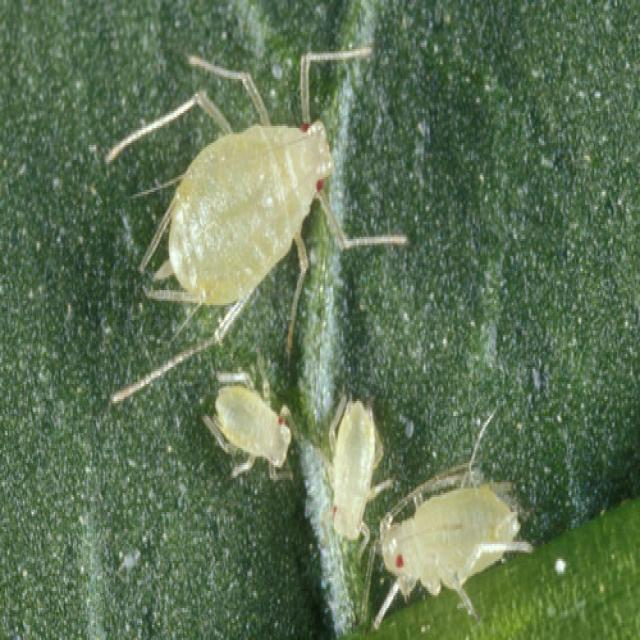Aphid-Grown-: (86, 48, 416, 348), (368, 456, 542, 598), (298, 374, 394, 547), (197, 366, 296, 484)
